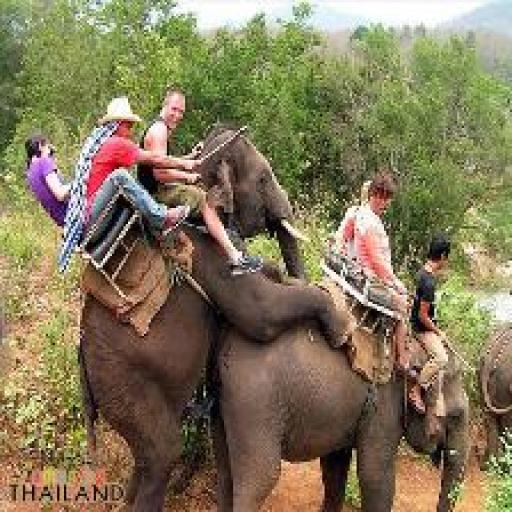Elephant: (75, 121, 311, 510), (210, 274, 471, 510), (473, 318, 510, 473)
